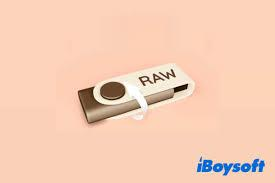Flash-drive: (68, 65, 211, 123)
